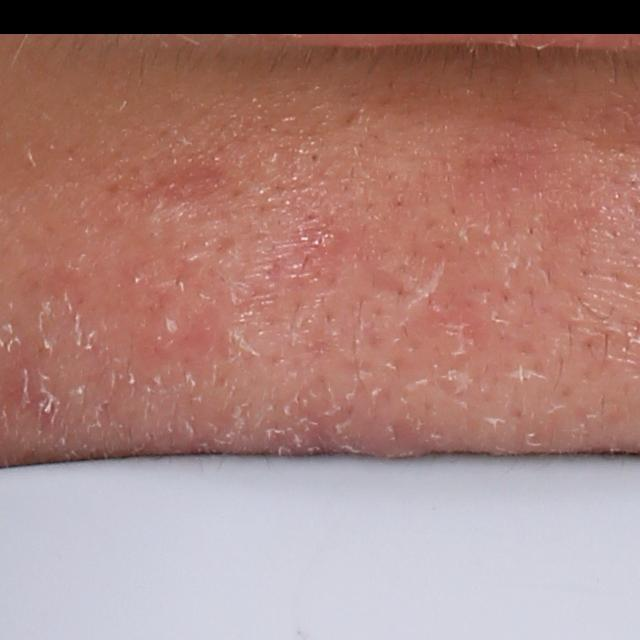atrophic_scar: (137, 166, 225, 205), (339, 108, 364, 126)
comedo: (307, 152, 321, 165)
